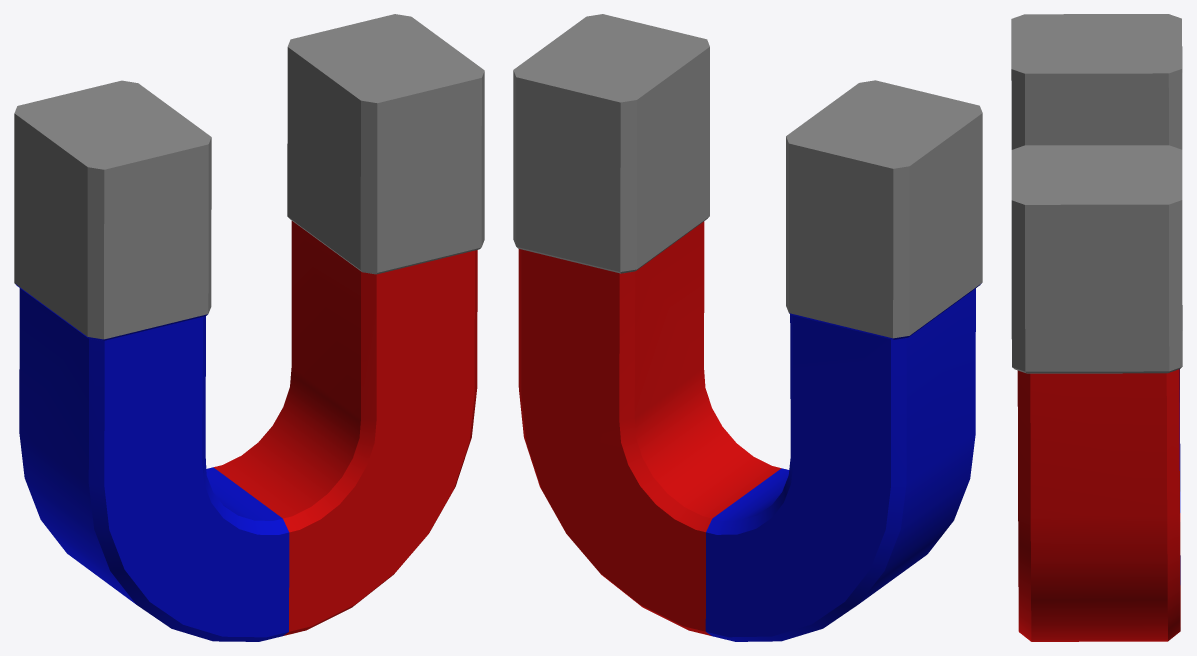
The model's file is Booster_Magnet.fbx.
The picture shows the model from 3 angles, left to right: view 1: azimuth 30°, elevation 25°; view 2: azimuth 150°, elevation 25°; view 3: azimuth 270°, elevation 25°; orthographic projection.
Visible parts, largest first — view 1: Booster_Magnet; view 2: Booster_Magnet; view 3: Booster_Magnet.
Part boxes in pixels (x1,y1,x2,y2): Booster_Magnet: (14,14,484,641); Booster_Magnet: (513,14,982,641); Booster_Magnet: (1011,14,1182,641).
Size of the model in its own units: 17.19 by 21.51 by 6.53.
